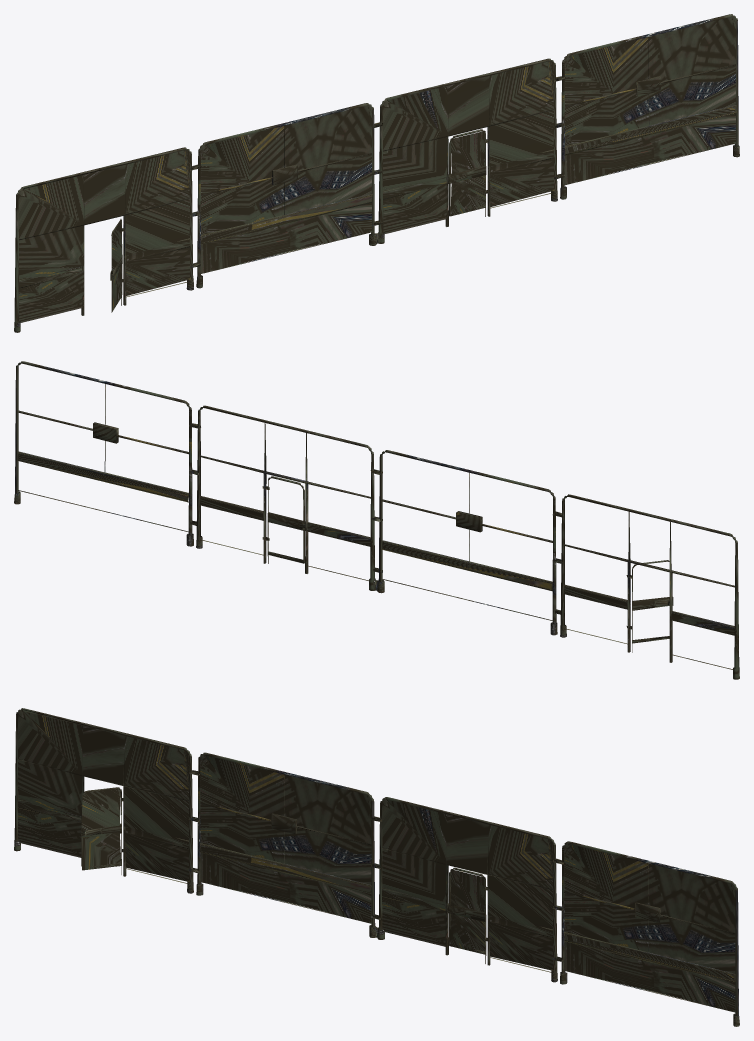
The model's file is fence_door_metal.glb.
The picture shows the model from 3 angles, top to bottom: view 1: azimuth 30°, elevation 25°; view 2: azimuth 150°, elevation 25°; view 3: azimuth 330°, elevation 25°; orthographic projection.
Visible parts, largest first — view 1: fence_door_metal; view 2: fence_door_metal; view 3: fence_door_metal.
Boxes of the visible parts, box(x1,y1,x2,y2) form: fence_door_metal: box(14, 14, 739, 332); fence_door_metal: box(14, 361, 739, 679); fence_door_metal: box(14, 708, 739, 1026).
Bounding box in the file's own units: 20.95 × 3.94 × 0.8534.
1 material, 1 textured.
